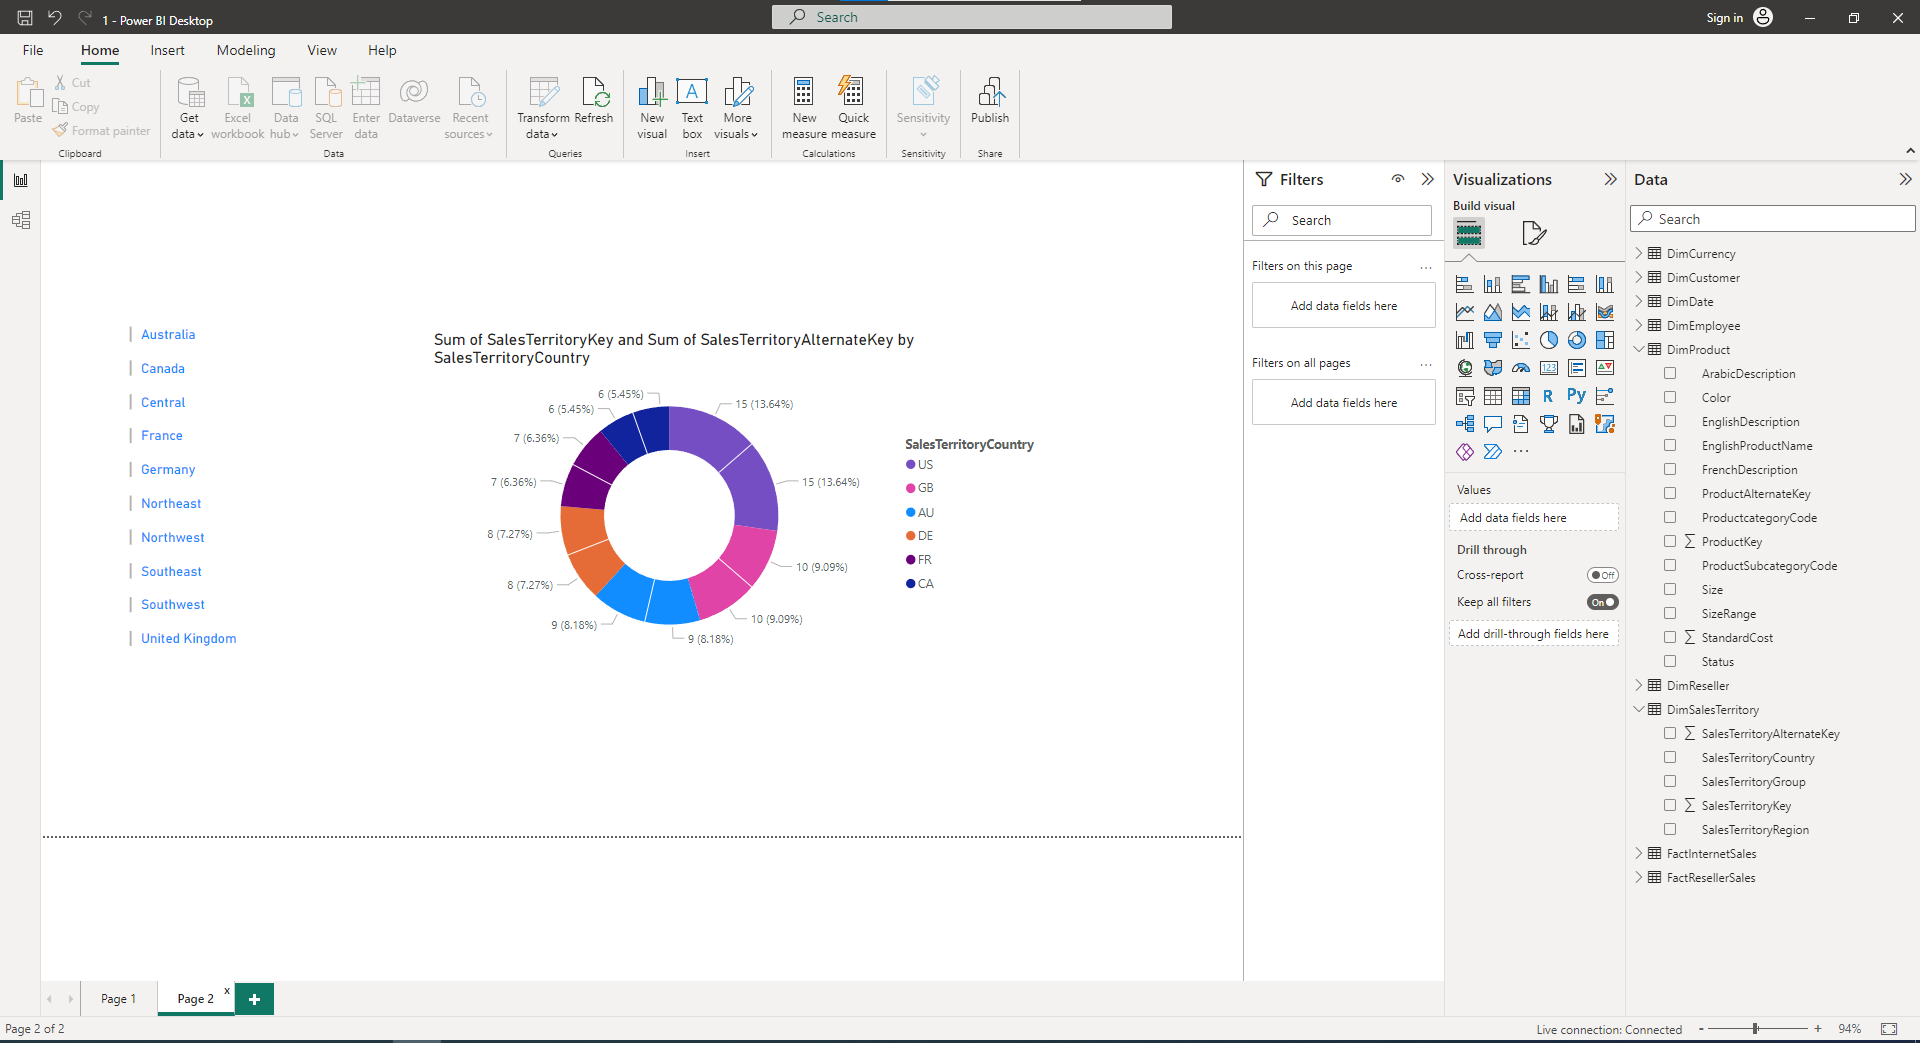

The dashboard page shown, as its layout file describes it:
{"tool":"powerbi","page":{"name":"Page 2","canvas":[1280,720],"ordinal":1},"visuals":[{"type":"multiRowCard","fields":{"Values":["DimSalesTerritory.SalesTerritoryRegion"]},"box":[89.5,172.5,280.1,378],"z":0},{"type":"donutChart","fields":{"Category":["DimSalesTerritory.SalesTerritoryCountry"],"Y":["Sum(DimSalesTerritory.SalesTerritoryKey)","Sum(DimSalesTerritory.SalesTerritoryAlternateKey)"]},"box":[413.2,181,660.2,356.7],"z":1}]}

Visuals, with their boxes on the page's 1280x720 design canvas (x1, y1, x2, y2). These are canvas units, not pixel positions in the 1920x1043 screenshot, which may show the page scaled, cropped or inside an application window:
multiRowCard - DimSalesTerritory.SalesTerritoryRegion: (x1=90, y1=172, x2=370, y2=550)
donutChart - DimSalesTerritory.SalesTerritoryCountry x Sum(DimSalesTerritory.SalesTerritoryKey): (x1=413, y1=181, x2=1073, y2=538)
